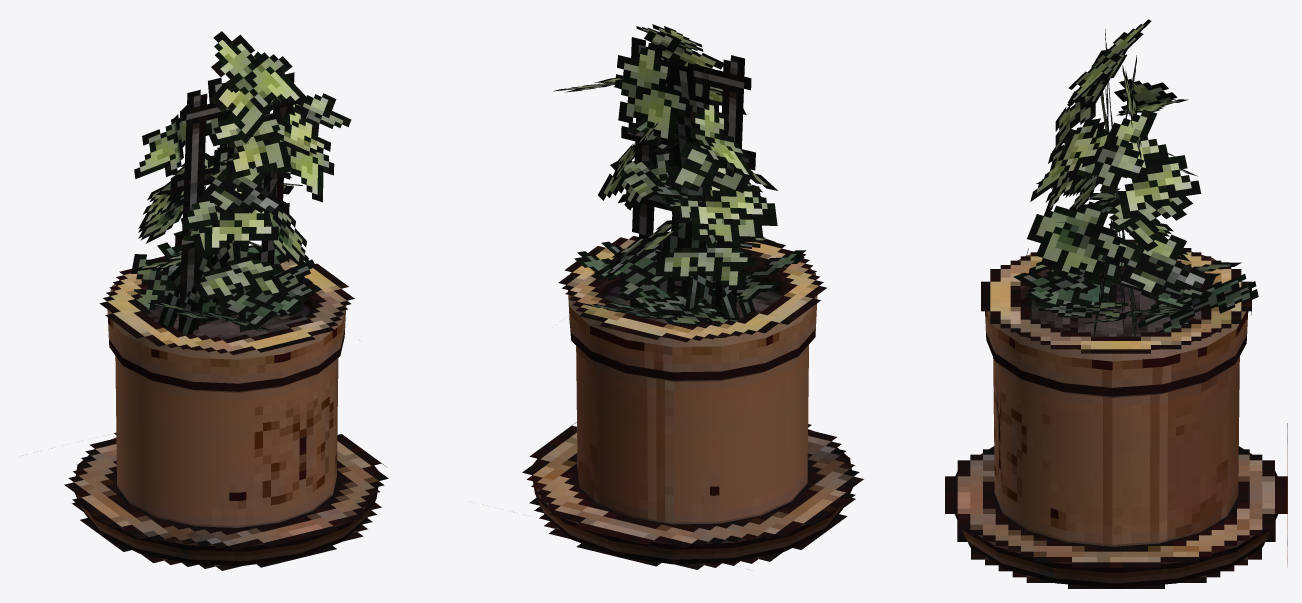
File: plant-transformed.glb
The picture shows the model from 3 angles, left to right: view 1: azimuth 30°, elevation 25°; view 2: azimuth 150°, elevation 25°; view 3: azimuth 270°, elevation 25°; orthographic projection. The views are drawn at different scales.
Parts seen in each view (by area): view 1: pot_0, plant_1; view 2: pot_0, plant_1; view 3: pot_0, plant_1.
Part boxes in pixels (x1,y1,x2,y2): pot_0: [64, 256, 388, 570]; plant_1: [131, 31, 351, 335]; pot_0: [522, 236, 863, 569]; plant_1: [553, 24, 806, 326]; pot_0: [945, 239, 1287, 588]; plant_1: [1013, 19, 1258, 336].
Size of the model in its own units: 2 by 3.23 by 1.95.
Materials: 1 (1 with a texture image).
